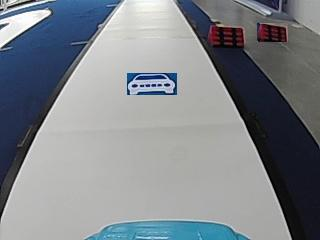bomb: (208, 25, 245, 46)
